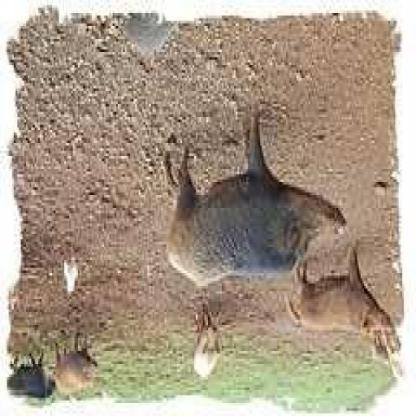boar: (173, 98, 358, 296)
